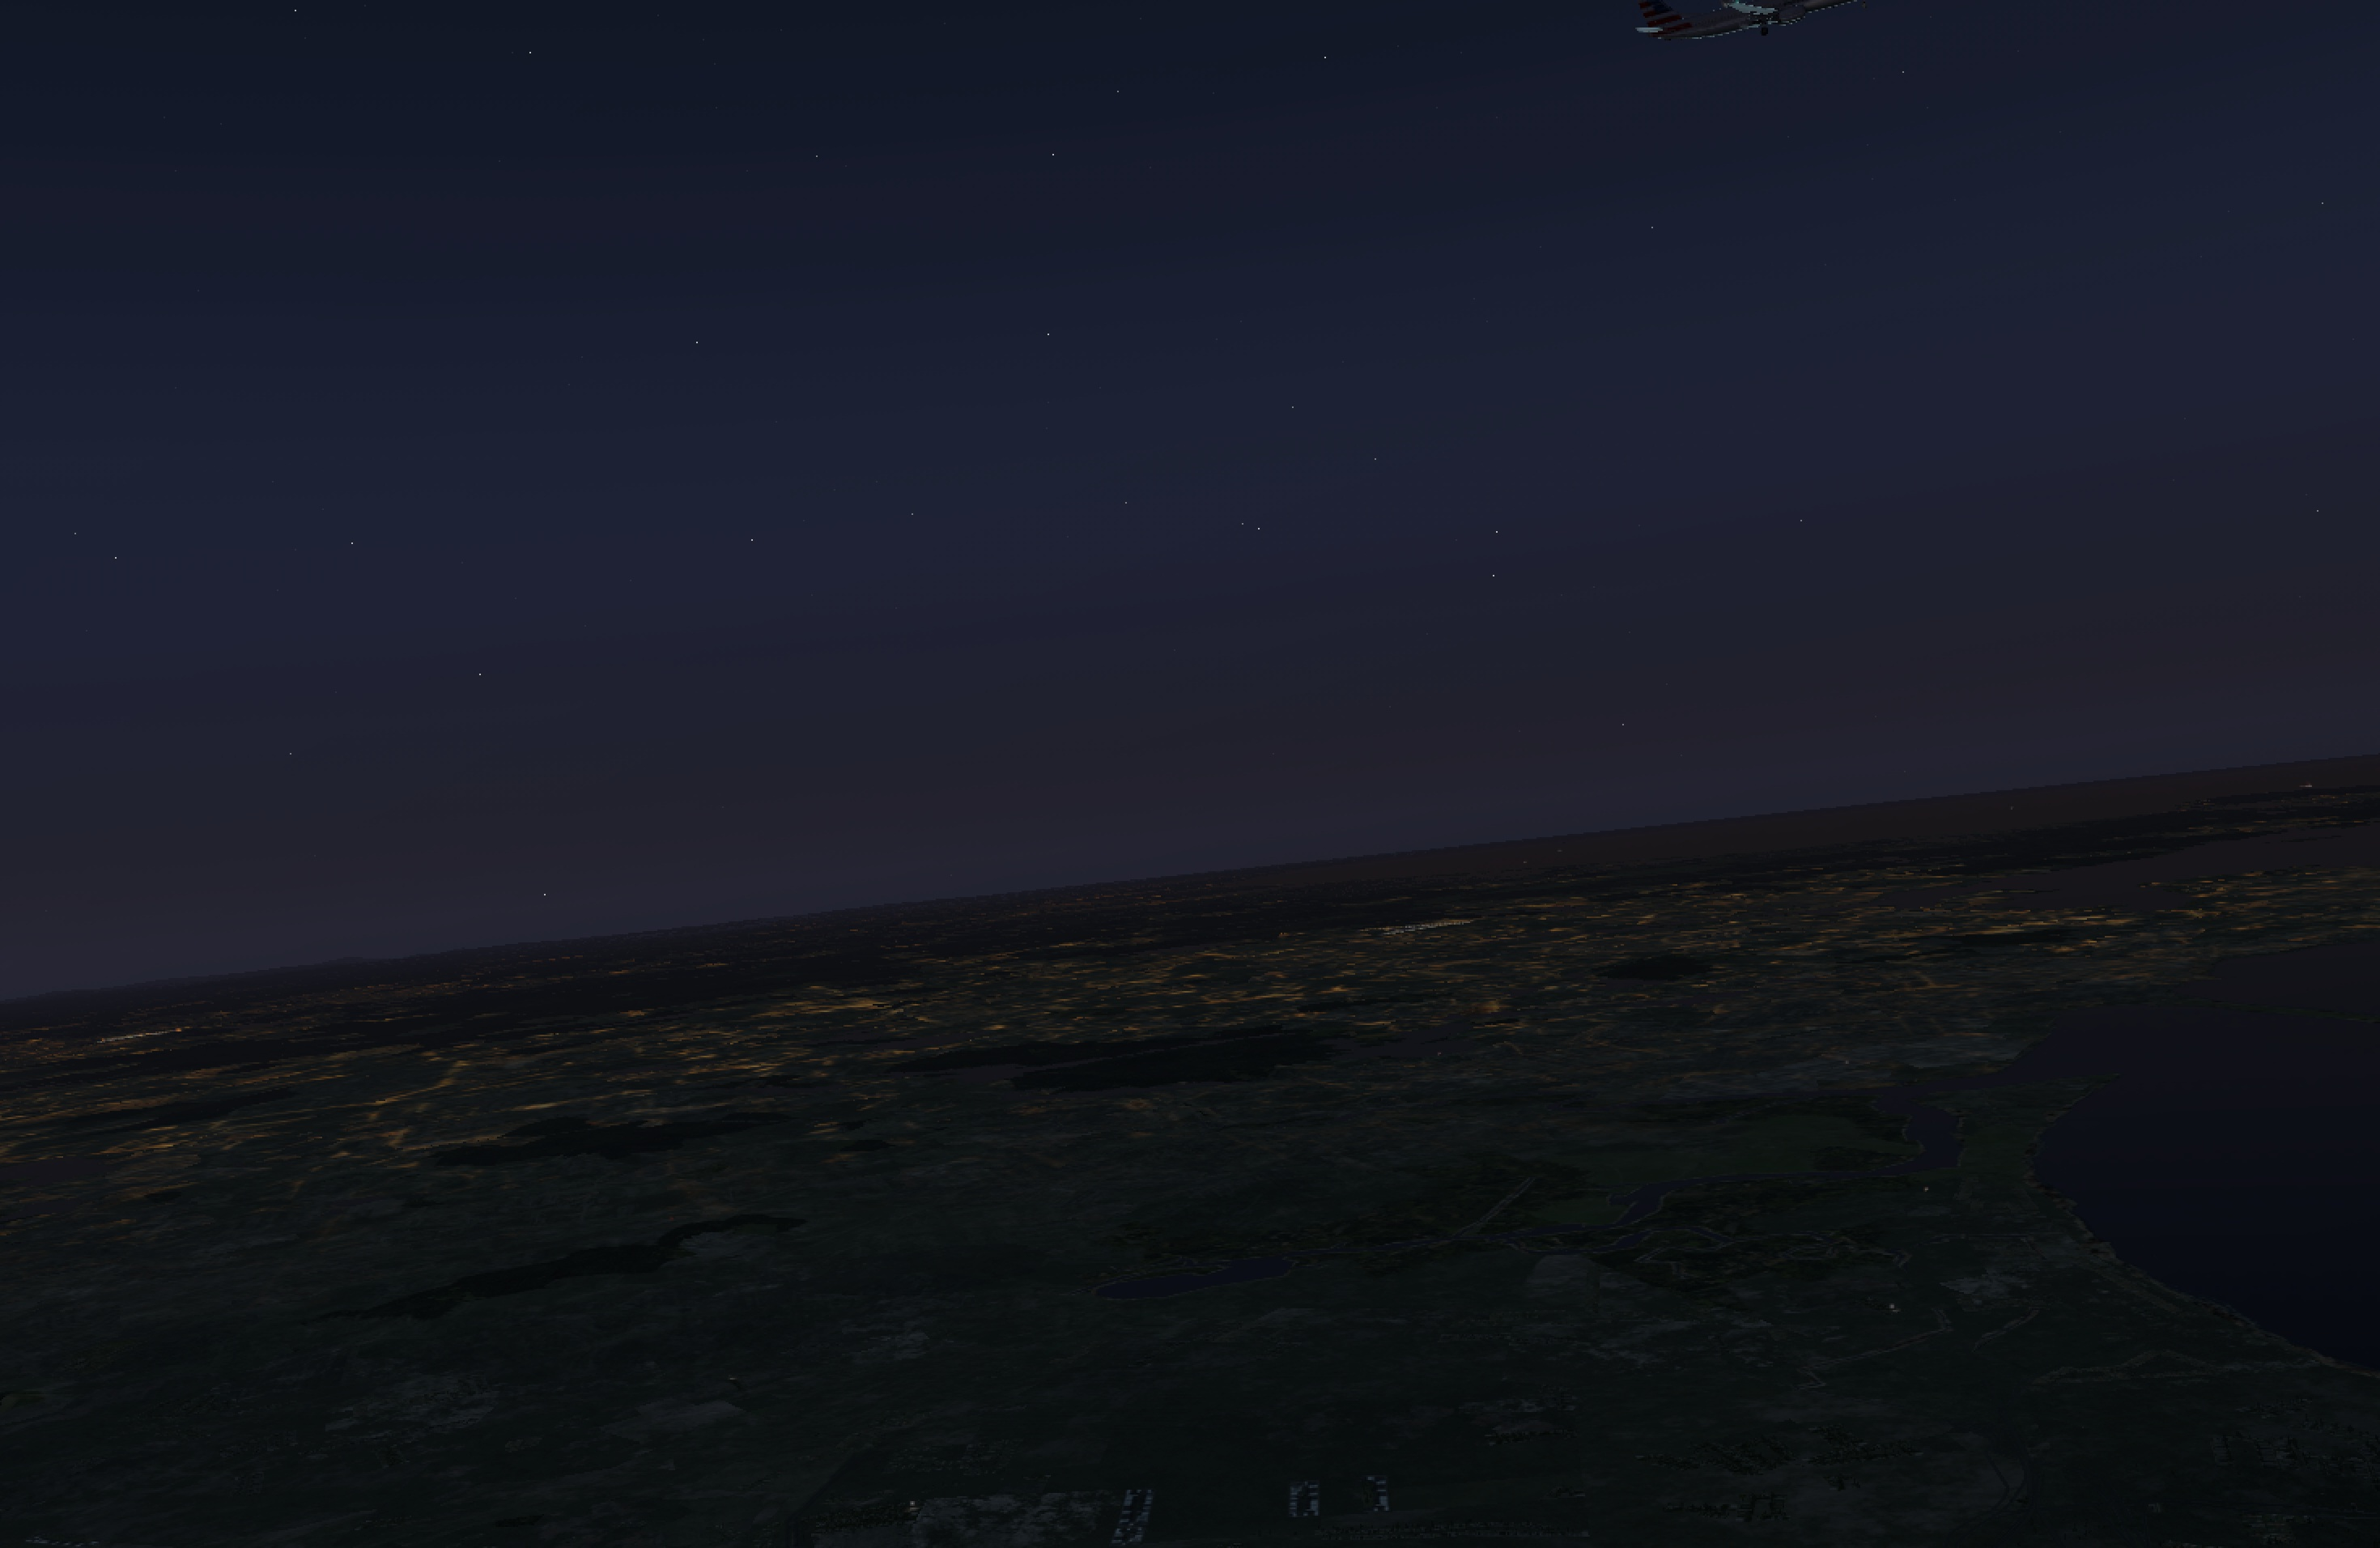aircraft: (1660, 0, 1880, 56)
